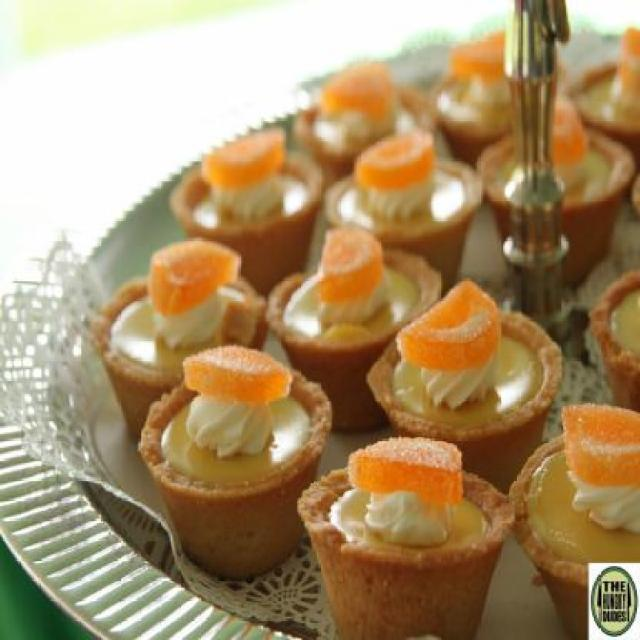Muffin: (90, 23, 639, 640)
